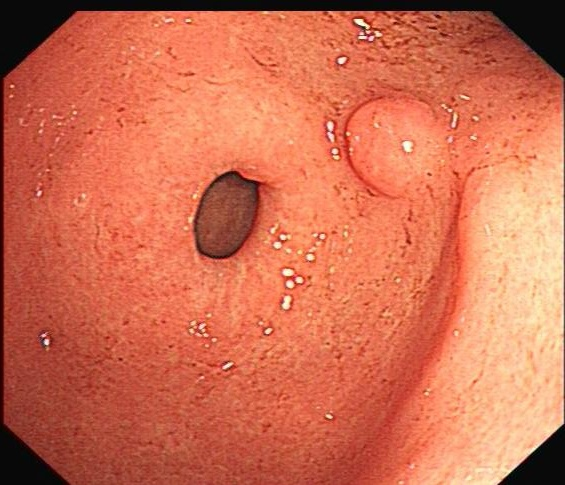Polyp: (336, 96, 441, 203)
